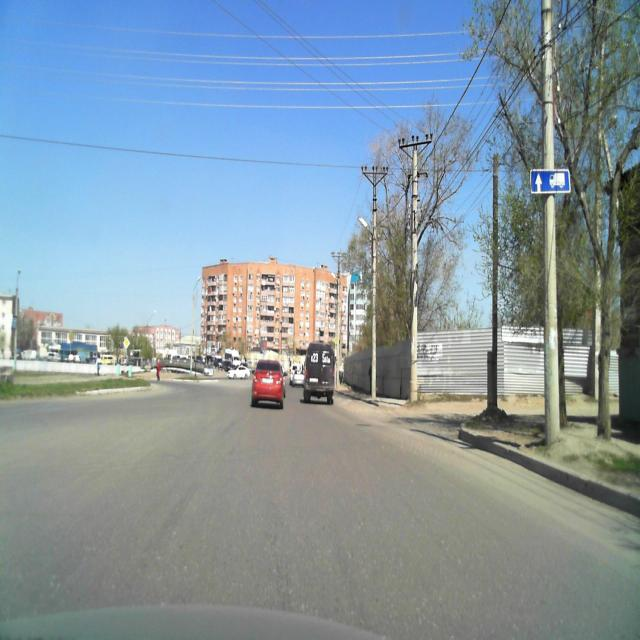road sign: (530, 168, 571, 194), (123, 337, 130, 348), (68, 331, 73, 341)
